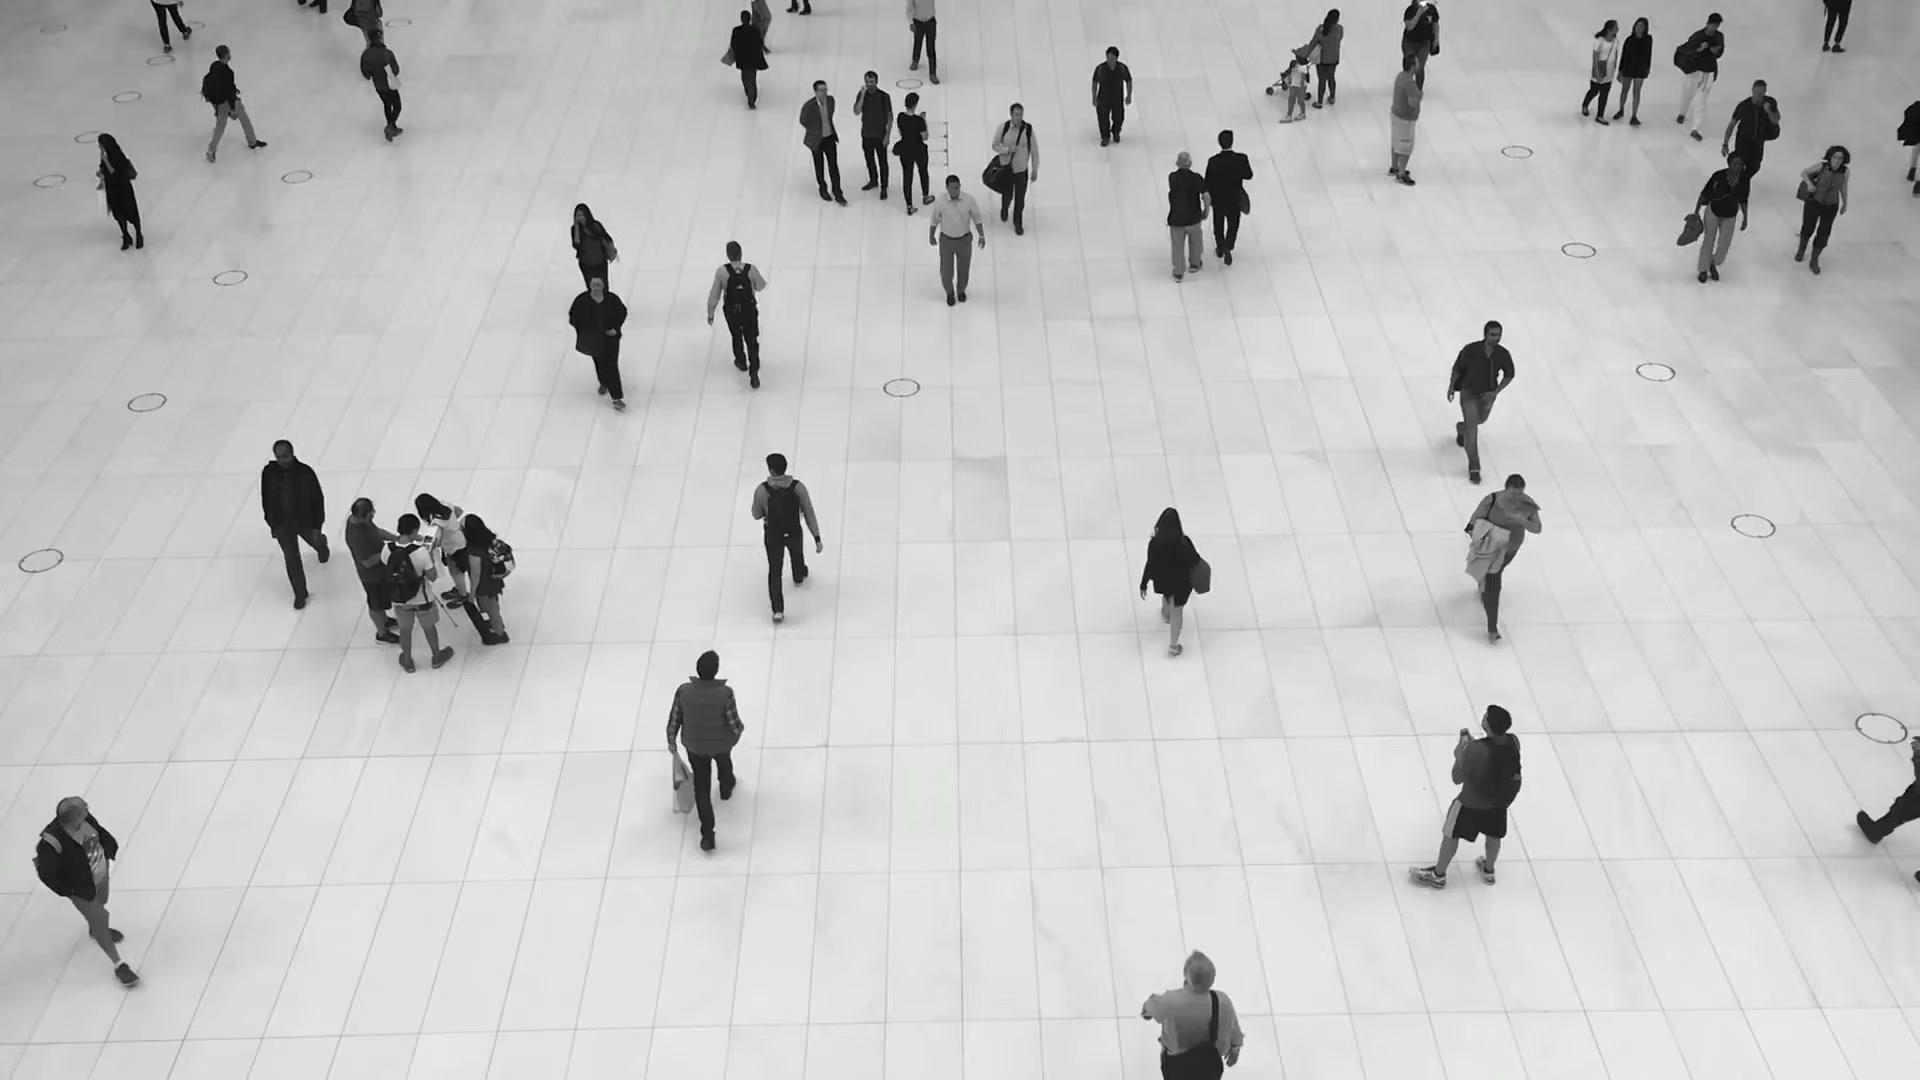person: (1407, 704, 1522, 889), (30, 794, 139, 988), (666, 651, 746, 852), (1138, 949, 1242, 1080), (1465, 473, 1542, 643), (749, 452, 824, 624), (260, 439, 331, 609), (381, 514, 454, 674), (1447, 320, 1516, 485), (1139, 506, 1211, 656), (706, 241, 766, 388), (568, 276, 628, 413), (344, 497, 399, 643), (200, 43, 266, 162), (1794, 145, 1851, 275), (928, 174, 985, 307), (459, 513, 516, 645), (1693, 153, 1749, 283), (1204, 129, 1253, 266), (1673, 12, 1725, 140), (414, 491, 470, 609), (798, 78, 848, 205), (991, 102, 1039, 234), (1166, 151, 1210, 284), (1722, 78, 1781, 177), (94, 131, 143, 250), (852, 70, 894, 200), (358, 27, 404, 141), (894, 91, 935, 217), (1612, 16, 1653, 126), (1388, 52, 1421, 186), (1091, 45, 1133, 146), (1581, 19, 1621, 127), (568, 202, 617, 288), (728, 10, 768, 108), (1311, 8, 1343, 108), (1278, 53, 1308, 122)
